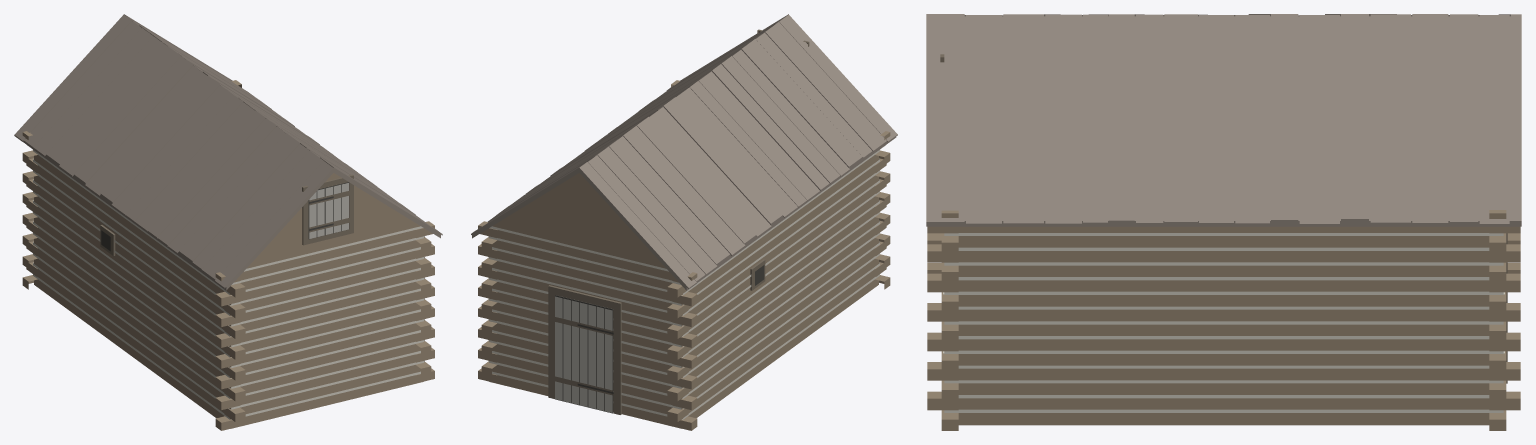
File: recon_1835_blk_washington_franklin_a1_10__inferred_1835.glb
3 views of the same model, side by side, from view 1: azimuth 30°, elevation 25°; view 2: azimuth 150°, elevation 25°; view 3: azimuth 270°, elevation 25° (orthographic). The views are drawn at different scales.
Visible parts, largest first — view 1: recon_1835_blk_washington_franklin_a1_10__inferred_1835; view 2: recon_1835_blk_washington_franklin_a1_10__inferred_1835; view 3: recon_1835_blk_washington_franklin_a1_10__inferred_1835.
Part boxes in pixels (box(x1,y1,x2,y2)): recon_1835_blk_washington_franklin_a1_10__inferred_1835: box(14, 14, 442, 430); recon_1835_blk_washington_franklin_a1_10__inferred_1835: box(471, 14, 897, 430); recon_1835_blk_washington_franklin_a1_10__inferred_1835: box(926, 14, 1521, 430).
Bounding box in the file's own units: 5.06 × 5.35 × 8.38.
